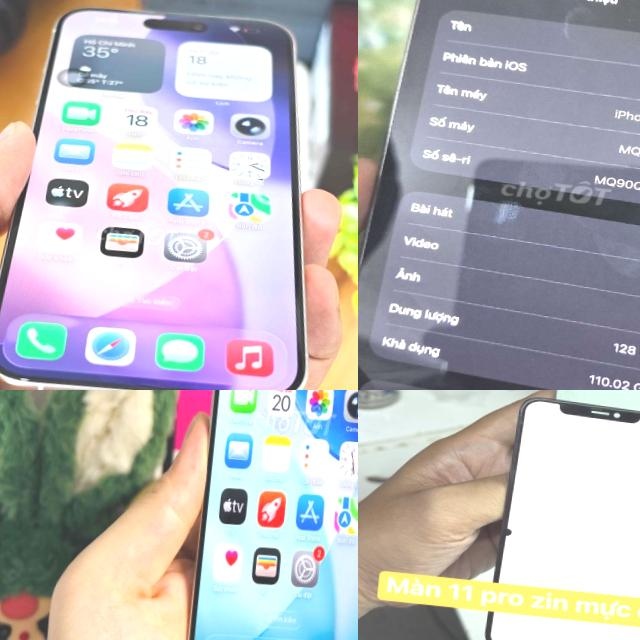gen_12_13: (495, 399, 640, 597), (487, 612, 640, 640)
gen_14: (358, 0, 640, 390)
gen_15: (0, 0, 347, 390), (157, 390, 358, 640)
scratch: (556, 0, 596, 52)
screen_defect: (501, 522, 514, 540)
